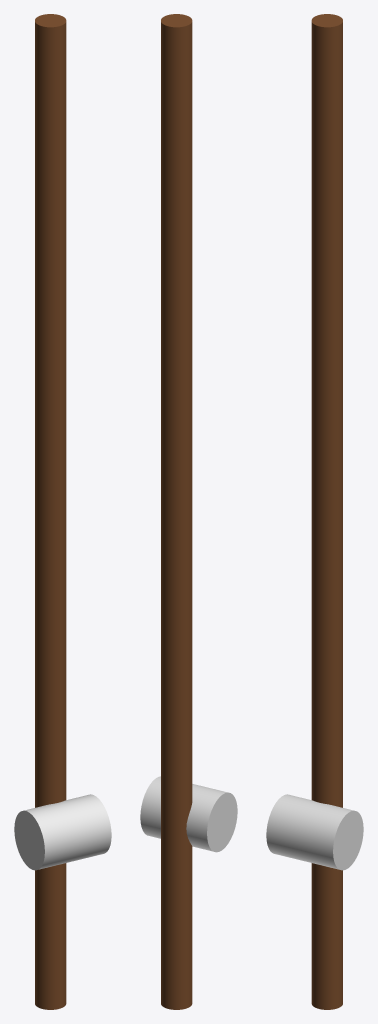
The model's file is Rod.fbx.
The picture shows the model from 3 angles, left to right: view 1: azimuth 30°, elevation 25°; view 2: azimuth 150°, elevation 25°; view 3: azimuth 330°, elevation 25°; orthographic projection.
Visible parts, largest first — view 1: Sphere.001; view 2: Sphere.001; view 3: Sphere.001.
Part boxes in pixels (x1,y1,x2,y2): Sphere.001: (14, 14, 111, 1009); Sphere.001: (140, 14, 237, 1009); Sphere.001: (266, 14, 363, 1009).
Bounding box in the file's own units: 11.93 × 168 × 11.02.
